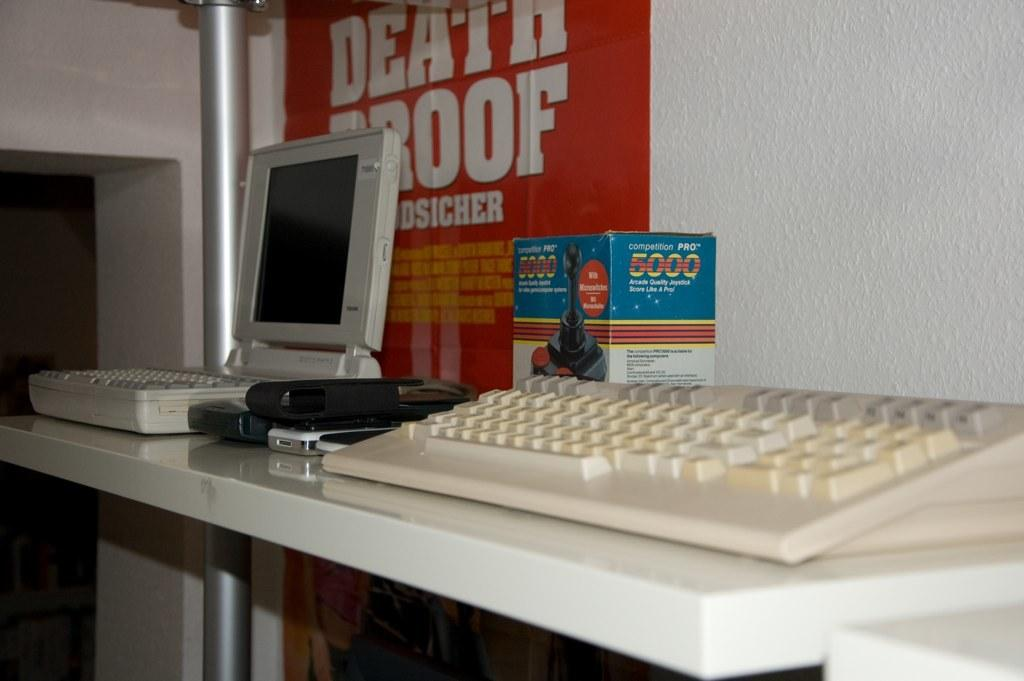Computer-keyboard: (320, 372, 1023, 562), (35, 361, 276, 392)
